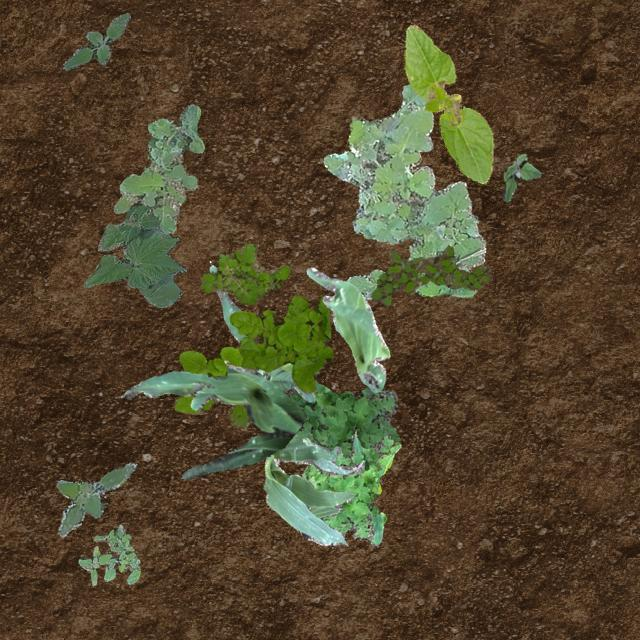crop: (120, 364, 304, 479), (208, 264, 314, 400), (403, 24, 492, 182), (262, 434, 364, 544), (82, 202, 186, 306), (306, 266, 388, 392), (264, 366, 296, 392), (252, 368, 266, 378)
weed: (322, 84, 484, 298), (172, 294, 332, 426), (112, 104, 204, 232), (308, 432, 400, 544), (286, 379, 398, 456), (369, 244, 492, 304), (55, 462, 135, 536), (200, 242, 290, 304), (300, 464, 380, 516), (62, 12, 130, 68), (78, 524, 140, 584), (500, 152, 540, 200)
